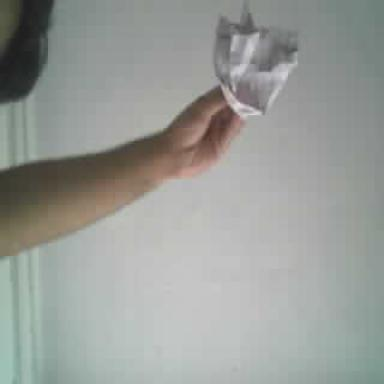paper: (215, 2, 296, 117)
